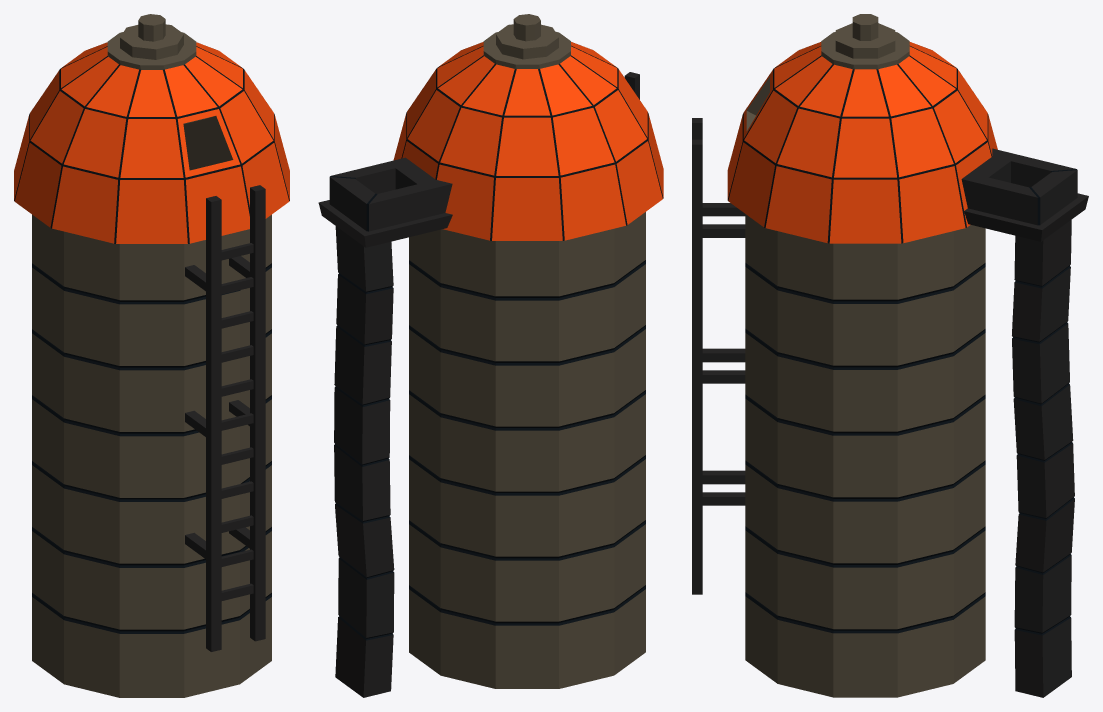
Rendered from Silo_2.001.fbx.
The picture shows the model from 3 angles, left to right: view 1: azimuth 30°, elevation 25°; view 2: azimuth 150°, elevation 25°; view 3: azimuth 270°, elevation 25°; orthographic projection.
Parts seen in each view (by area): view 1: Silo_2.001; view 2: Silo_2.001; view 3: Silo_2.001.
Part boxes in pixels (left/top/right/bottom): Silo_2.001: left=14, top=14, right=289, bottom=697; Silo_2.001: left=318, top=14, right=663, bottom=697; Silo_2.001: left=692, top=14, right=1088, bottom=697.
Bounding box in the file's own units: 122 × 303 × 173.
